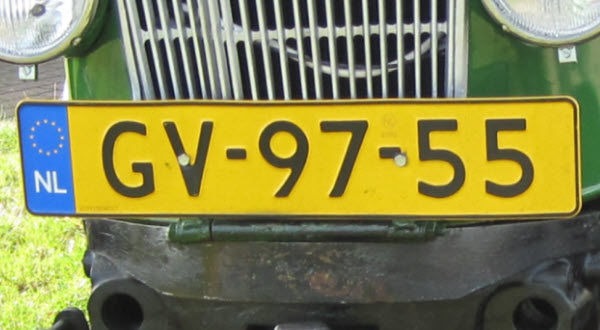license_plate: (17, 95, 582, 220)
